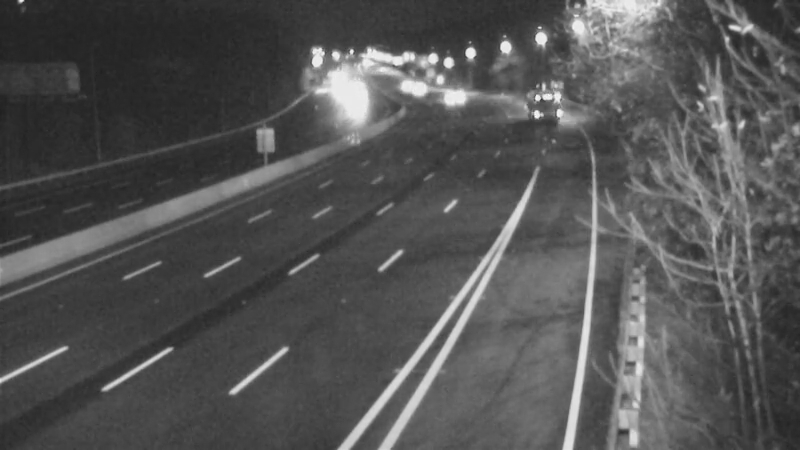vehicle: (380, 60, 430, 110), (392, 64, 442, 114), (511, 76, 561, 126), (424, 71, 474, 121), (323, 82, 373, 132)
